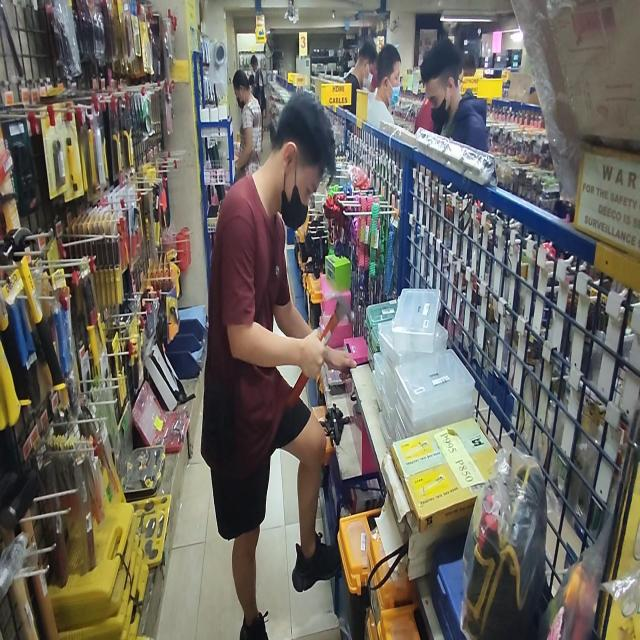hammer: (287, 292, 355, 407)
